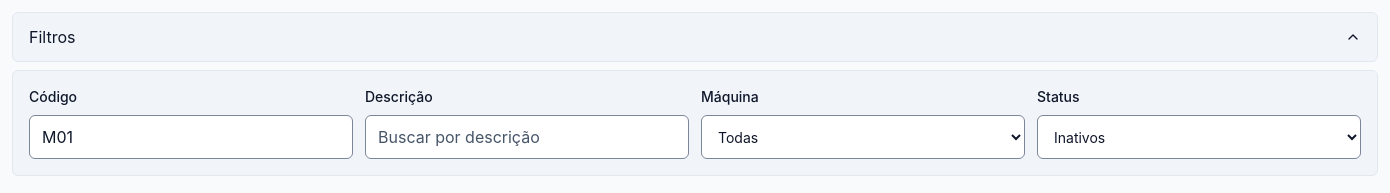
Test case: ModelosFilters › seção recolhível › deve mostrar 2 ativos no resumo quando código e status estão preenchidos
Click the button "Filtros" at {"x": 52, "y": 37}, box [12,12,1378,62]
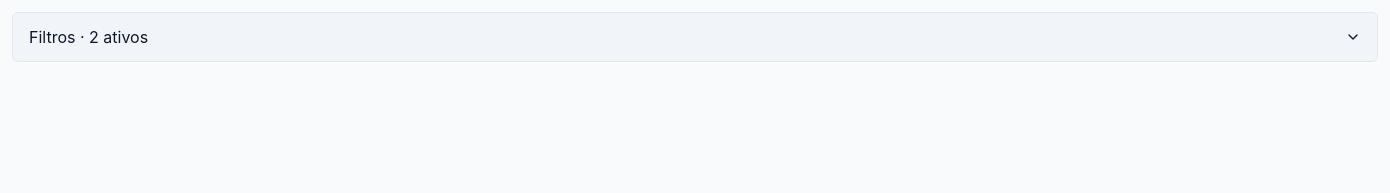
Result: the button reads "Filtros · 2 ativos" at [12,12,1378,62]
